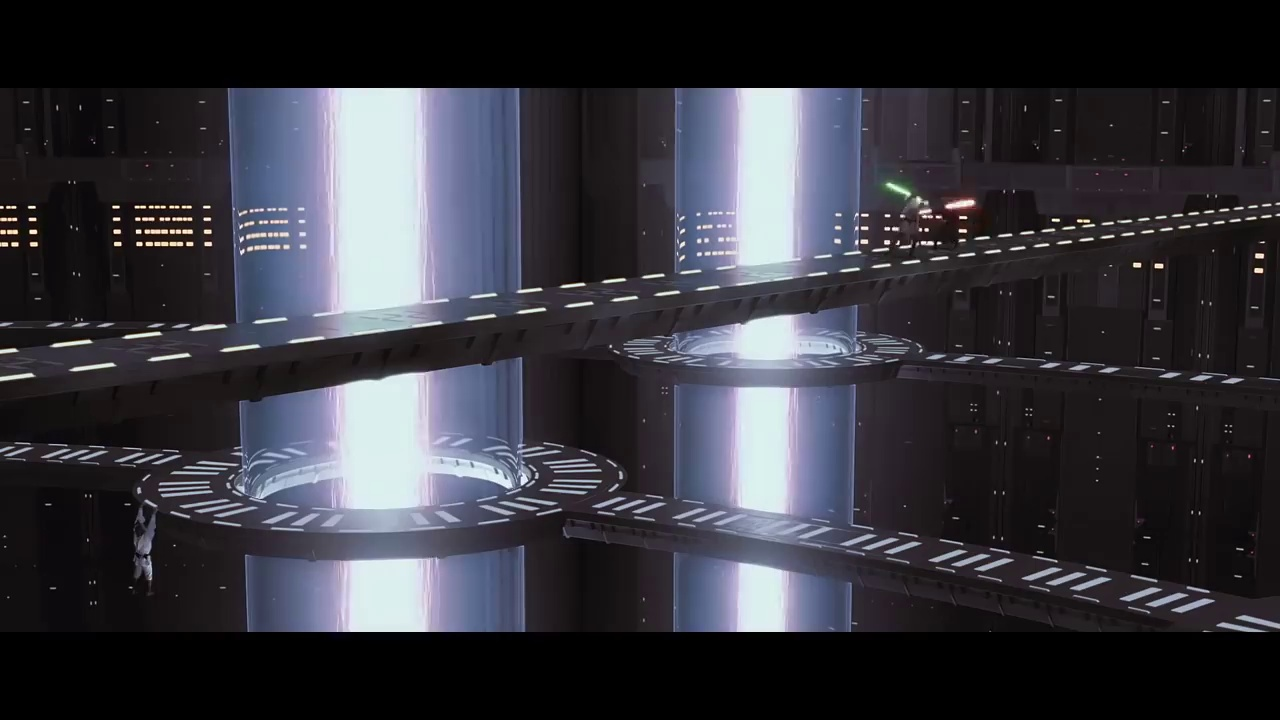lightsaber: (884, 181, 913, 197), (944, 195, 975, 209)
